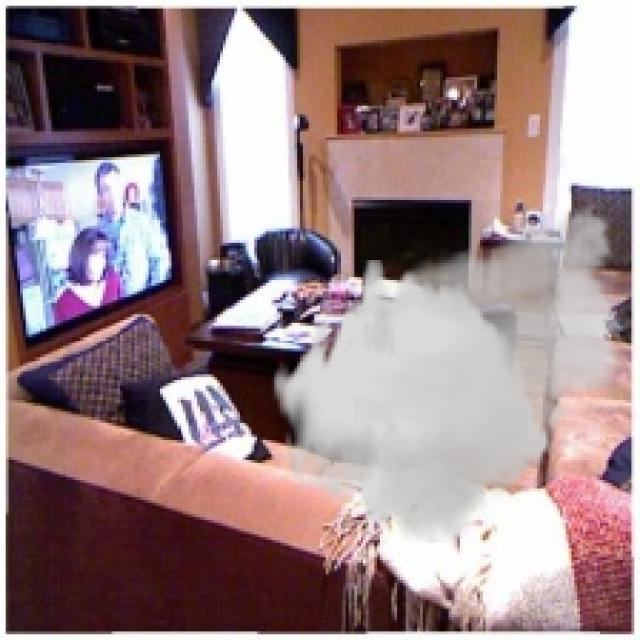Smoke: (272, 194, 634, 543)
